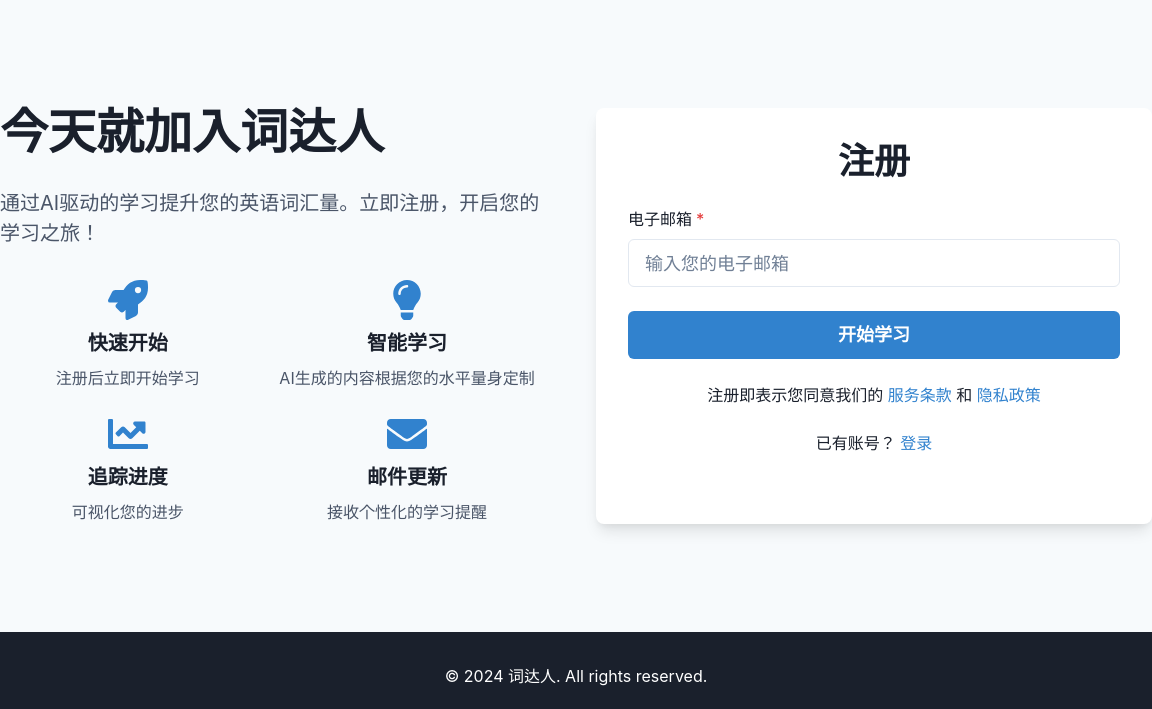
SignUpPage › navigates to privacy policy page when privacy policy link is clicked
Step 1. Click the link "隐私政策" → (1009, 395), box [977,385,1041,405]
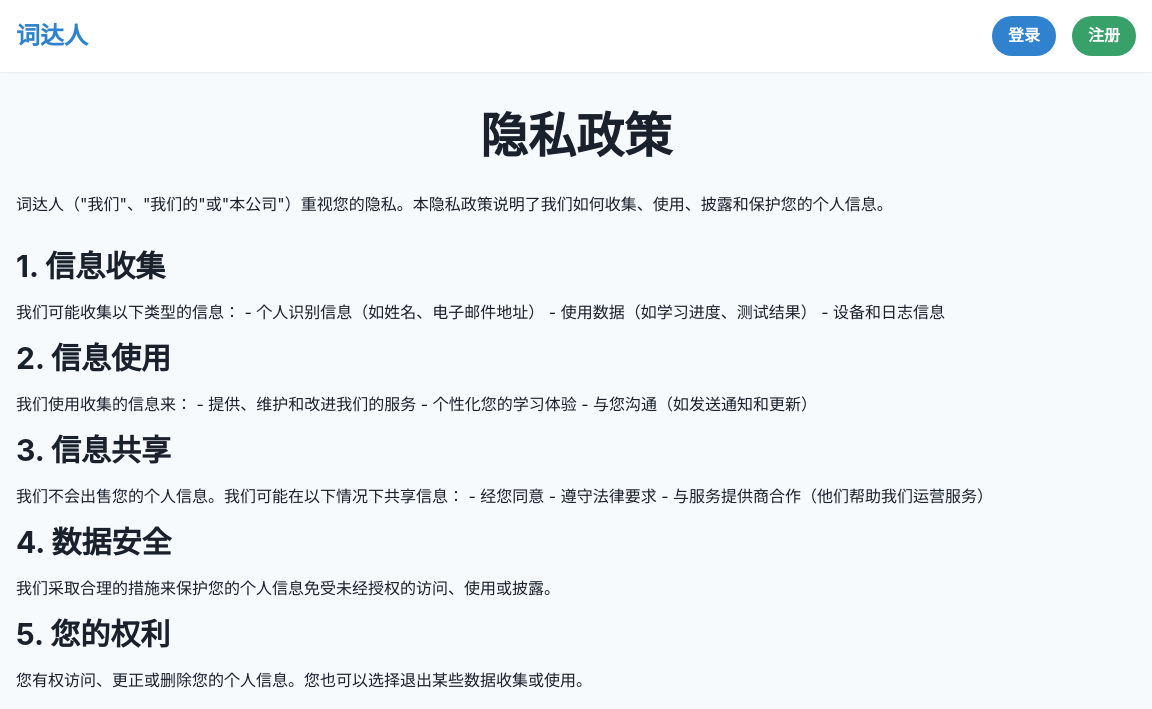
Check: the heading "1. 信息收集" is shown, box [16,248,165,284]
